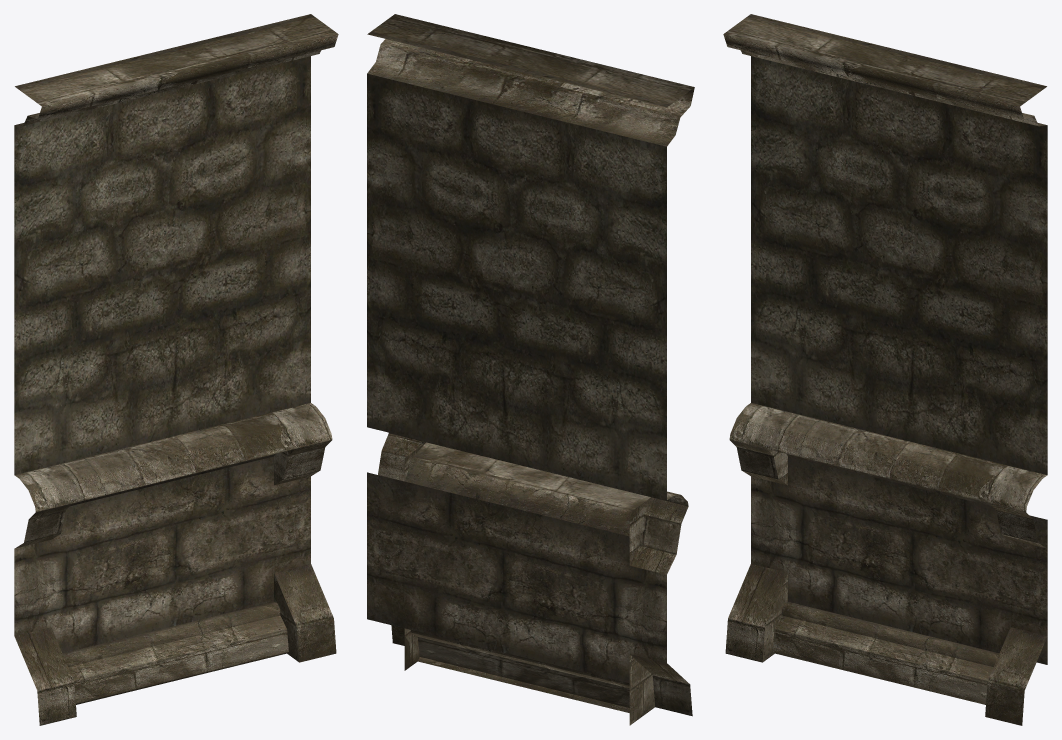
Rendered from short_worn_amfp.dae.
The picture shows the model from 3 angles, left to right: view 1: azimuth 30°, elevation 25°; view 2: azimuth 150°, elevation 25°; view 3: azimuth 330°, elevation 25°; orthographic projection.
Parts seen in each view (by area): view 1: short_worn; view 2: short_worn; view 3: short_worn.
Part boxes in pixels (<box>): short_worn: <box>14,14,338,725</box>; short_worn: <box>367,14,694,725</box>; short_worn: <box>723,14,1047,725</box>.
Bounding box in the file's own units: 2 × 4 × 0.3219.
